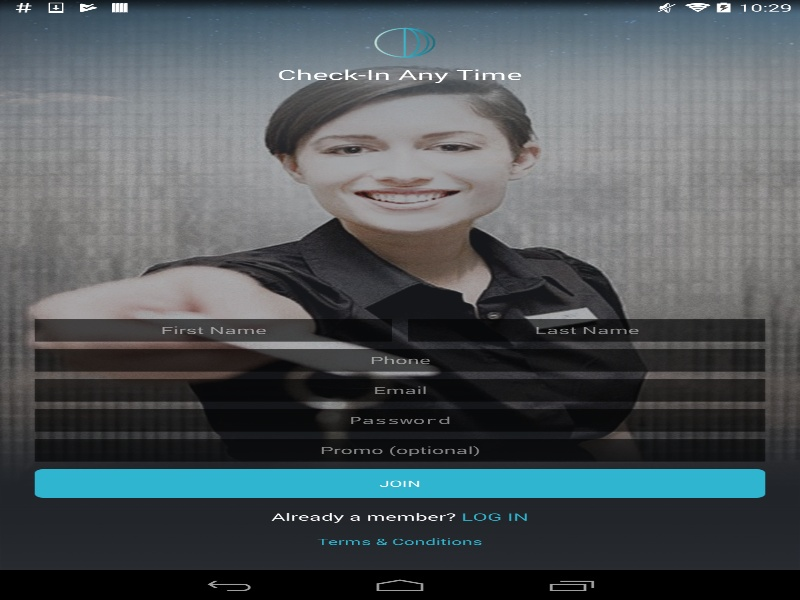Button: (34, 469, 765, 497)
Input: (34, 349, 765, 371), (34, 379, 765, 401), (34, 409, 765, 431), (34, 439, 765, 461), (34, 319, 392, 341), (408, 319, 765, 341)
